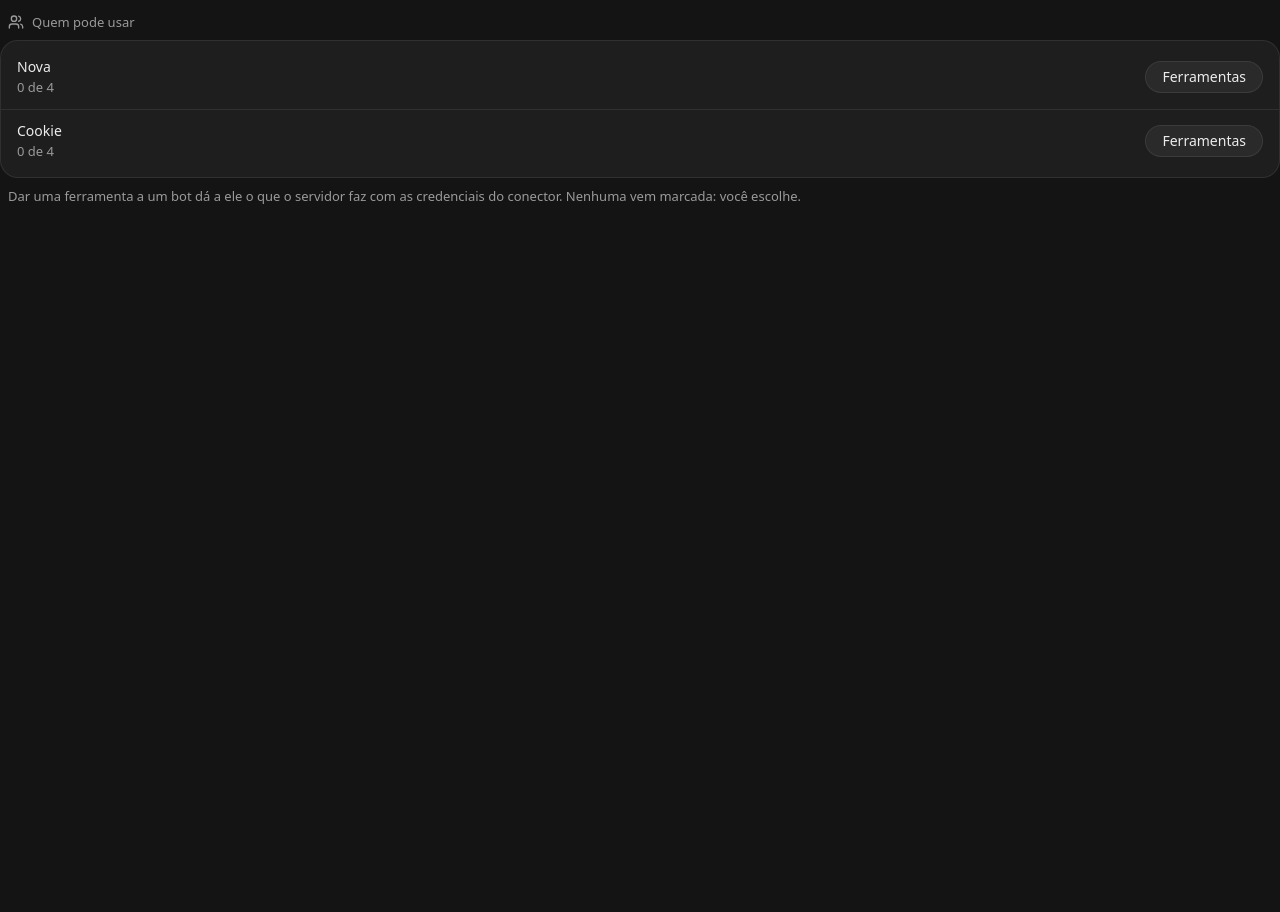
per-tool grants of a connector › saves the explicit list of what was ticked, and `all` only for 'Selecionar todas'
The image size is (1280, 912).
Later steps or results of the test are not shown.
Click the button with aria-label "Nova": (1204, 77) [1145, 61, 1263, 93]
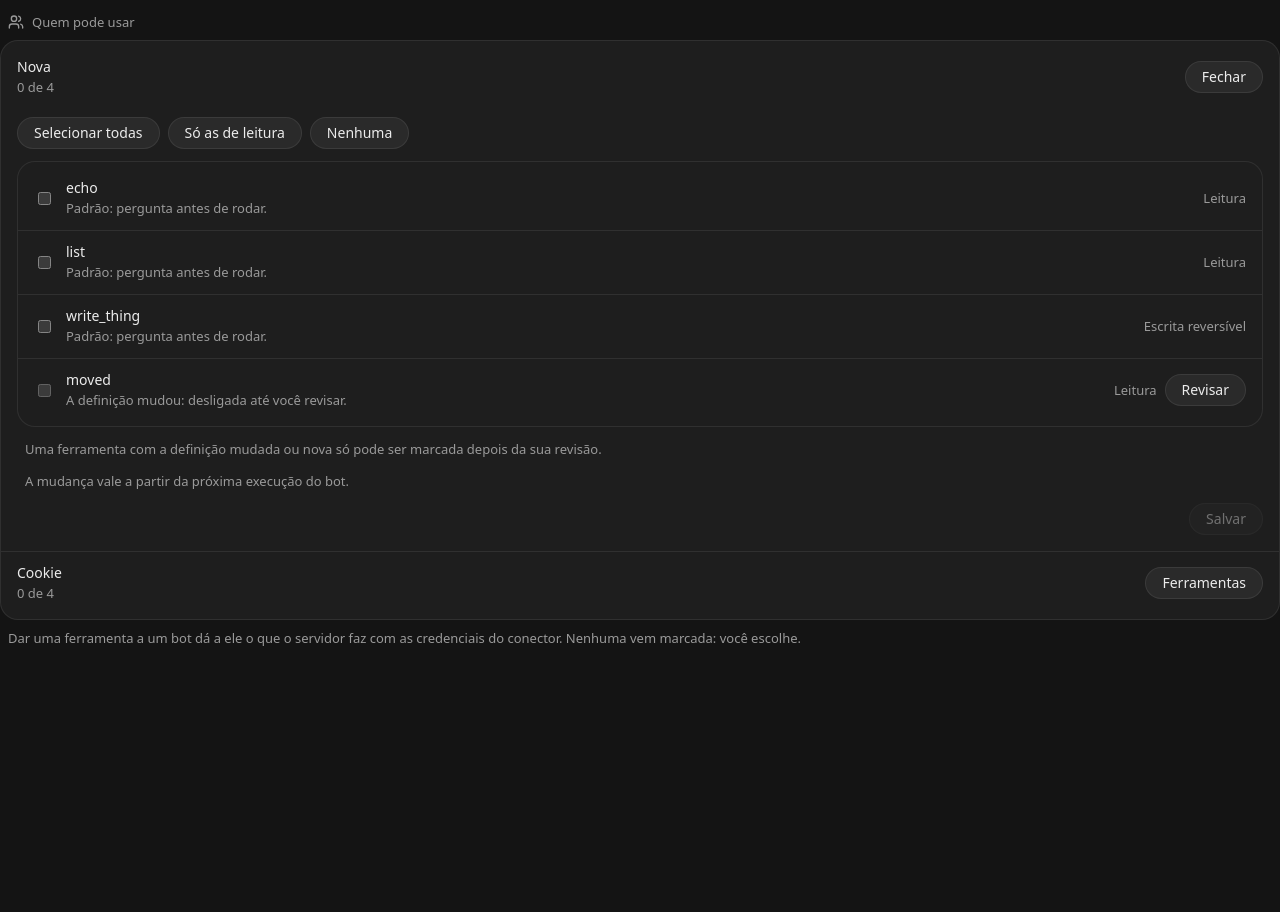
Expected: the button with test id "grant-save" is disabled, [1189, 503, 1263, 535]
Click the checkbox labelled "echo": (44, 198) [38, 192, 51, 204]
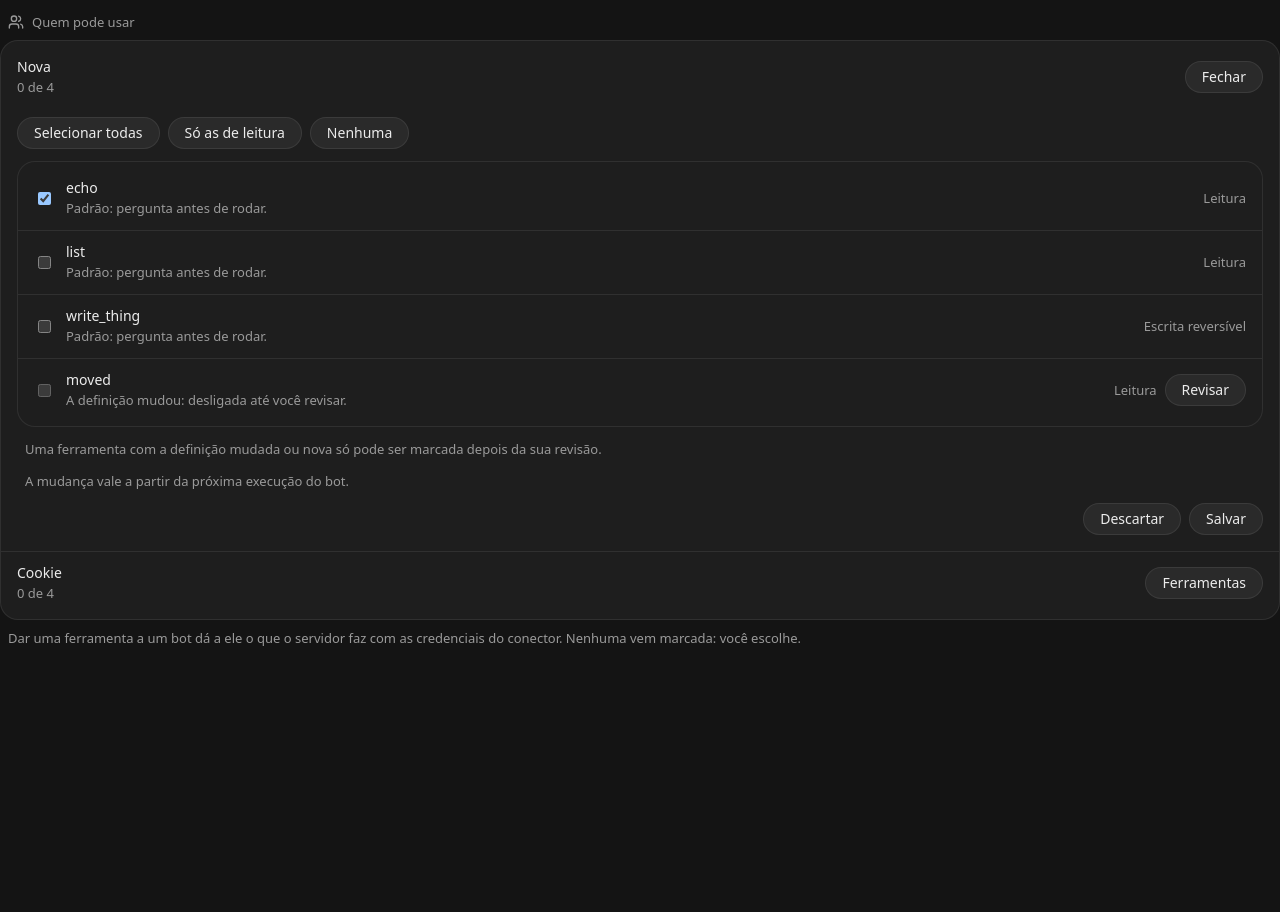
Click the checkbox labelled "write_thing": (44, 326) [38, 320, 51, 332]
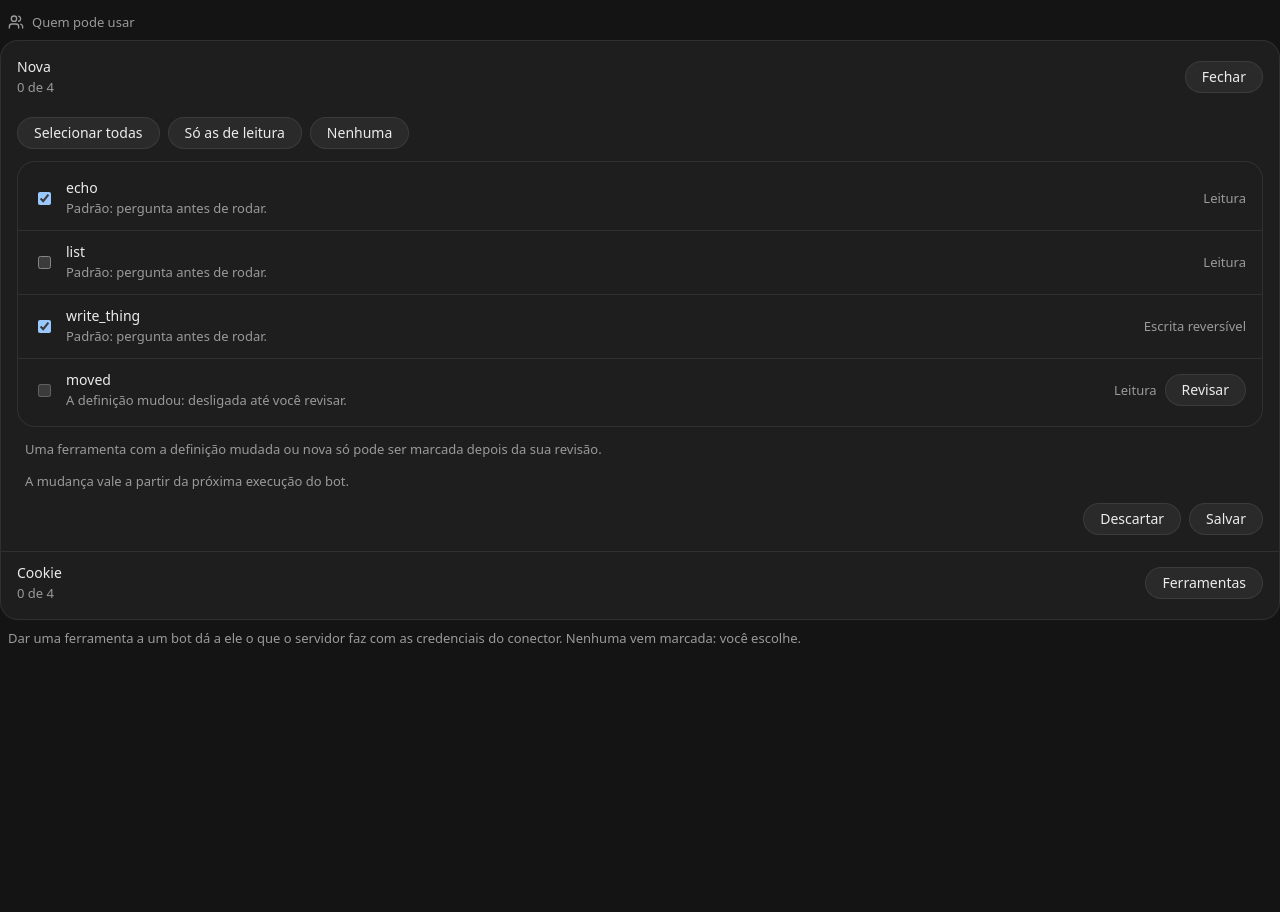
Expected: the element with test id "grant-row" has attribute data-count="2 de 4", [17, 45, 1263, 551]
